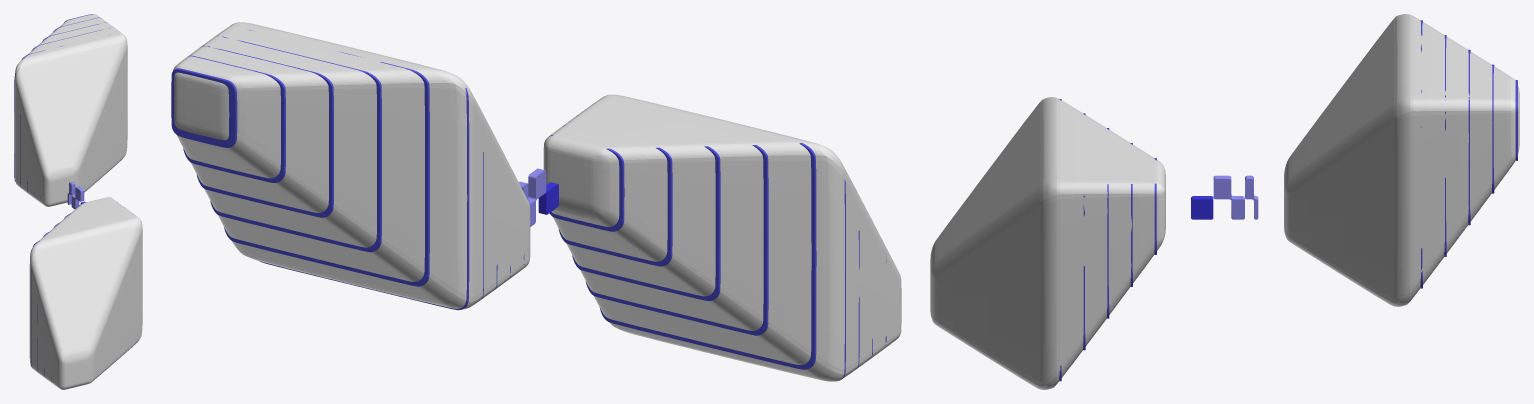
Rendered from banner_booleaned.glb.
The picture shows the model from 3 angles, left to right: view 1: azimuth 30°, elevation 25°; view 2: azimuth 150°, elevation 25°; view 3: azimuth 270°, elevation 25°; orthographic projection. The views are drawn at different scales.
Visible parts, largest first — view 1: boxl, boxr, panelr, panell, logo2, logo1; view 2: boxl, boxr, panelr, panell, logo2; view 3: boxl, boxr, panelr, panell, logo2, logo3.
Boxes of the visible parts, x1,y1,x2,y2 form: boxl: (29,197,142,389); boxr: (14,14,127,206); panelr: (14,14,110,198); panell: (31,197,124,381); logo2: (71,186,84,209); logo1: (67,181,75,204); boxl: (543,94,901,381); boxr: (173,22,530,309); panelr: (171,30,524,310); panell: (548,115,886,380); logo2: (528,168,546,226); boxl: (930,97,1165,389); boxr: (1284,14,1519,306); panelr: (1420,20,1517,288); panell: (1059,99,1156,381); logo2: (1213,175,1244,219); logo3: (1191,196,1213,219).
Size of what is drawn, in the model's own units: 3.46 by 3.45 by 4.96.
